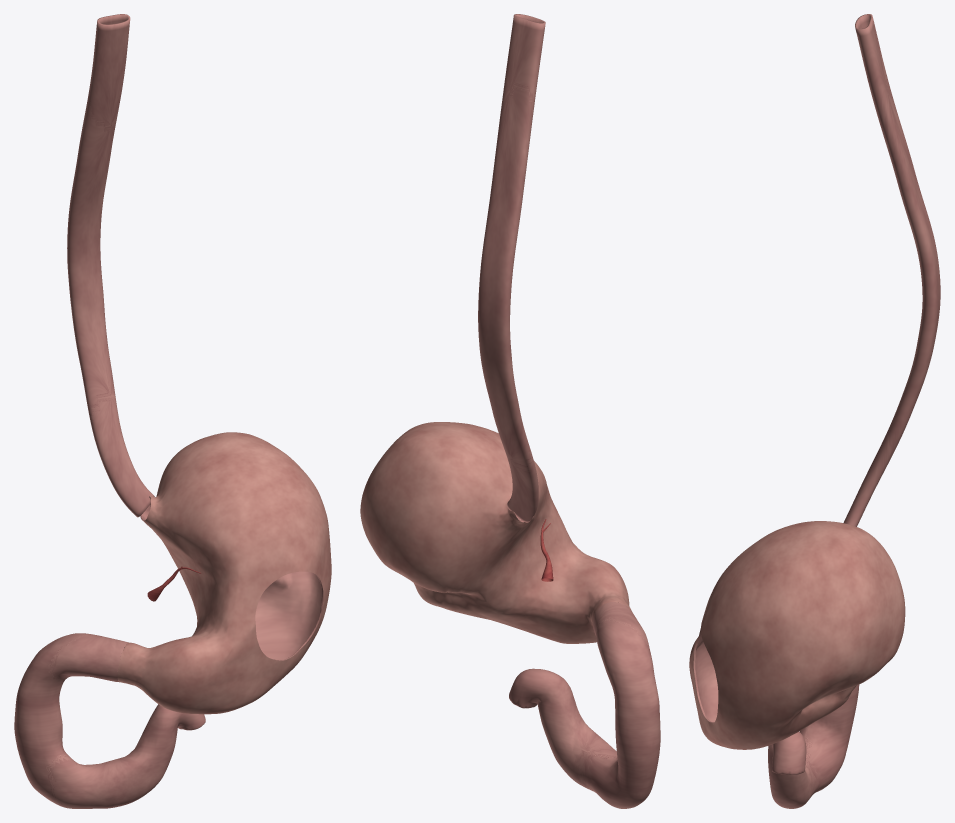
The model's file is stomach.glb.
The picture shows the model from 3 angles, left to right: view 1: azimuth 30°, elevation 25°; view 2: azimuth 150°, elevation 25°; view 3: azimuth 270°, elevation 25°; orthographic projection. The views are drawn at different scales.
Parts seen in each view (by area): view 1: Stomach.001, Oesophagus.001, Duodenum.001, Mucosa of stomach.001; view 2: Stomach.001, Oesophagus.001, Duodenum.001; view 3: Stomach.001, Oesophagus.001, Duodenum.001, Mucosa of stomach.001.
Part boxes in pixels (bbox=[...]): Stomach.001: bbox=[117, 432, 331, 714]; Oesophagus.001: bbox=[67, 14, 154, 517]; Duodenum.001: bbox=[14, 633, 205, 808]; Mucosa of stomach.001: bbox=[140, 496, 323, 660]; Stomach.001: bbox=[360, 422, 631, 643]; Oesophagus.001: bbox=[478, 14, 545, 522]; Duodenum.001: bbox=[509, 602, 660, 808]; Stomach.001: bbox=[689, 521, 905, 749]; Oesophagus.001: bbox=[843, 14, 940, 526]; Duodenum.001: bbox=[768, 685, 859, 808]; Mucosa of stomach.001: bbox=[693, 628, 718, 722].
Size of the model in its own units: 0.1708 by 0.4305 by 0.1225.
3 materials, 3 textured.
